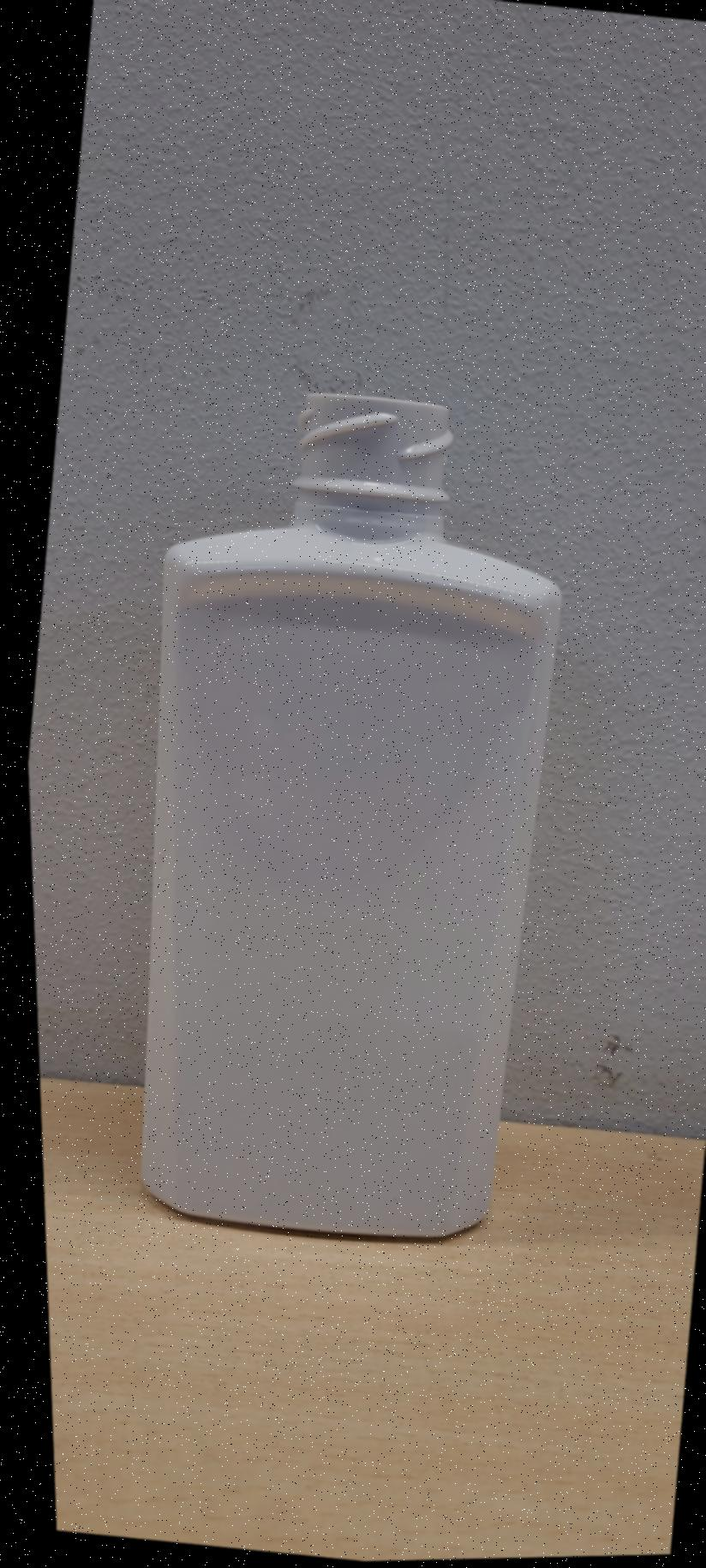bottle: (142, 392, 561, 1237)
